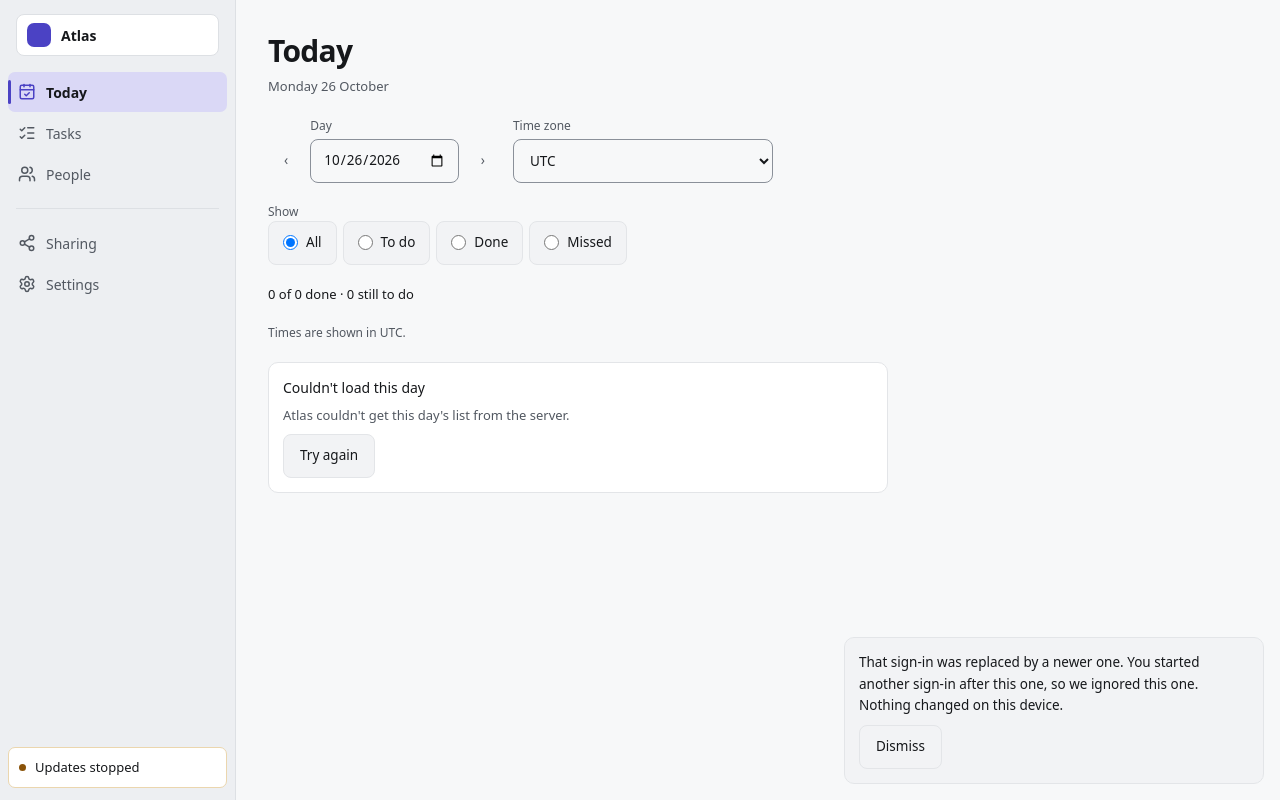
notices about a sign-in that finished while an account displays › T1/T2: the superseded notice, with the accepted wording, dismissible
Expected: the element that starts with "Today" is shown, [268,30,888,492]
Click the button "Dismiss".
click(900, 747)  # box [859,725,942,769]
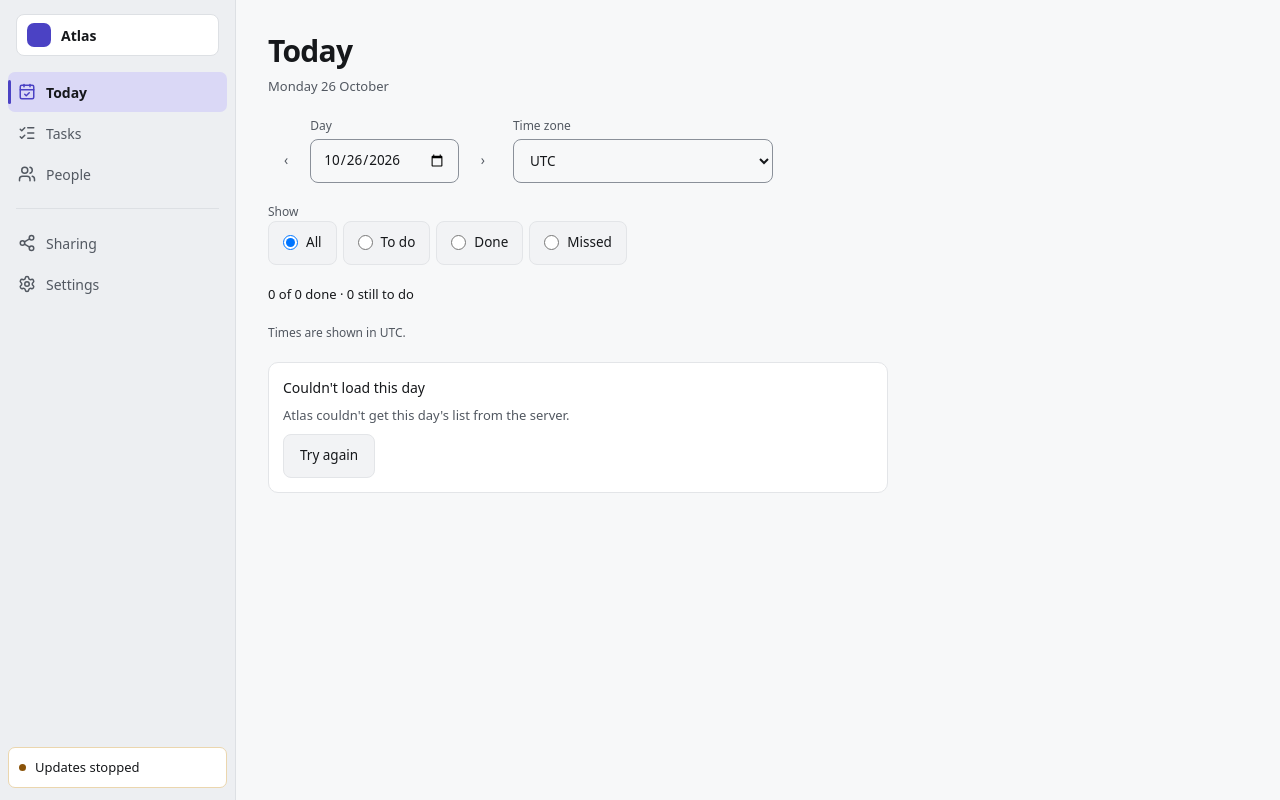
Expected: the text "You started another sign-in after this one, so we ignored this one. Nothing changed on this device." is gone
Expected: the element "Notices" is gone
